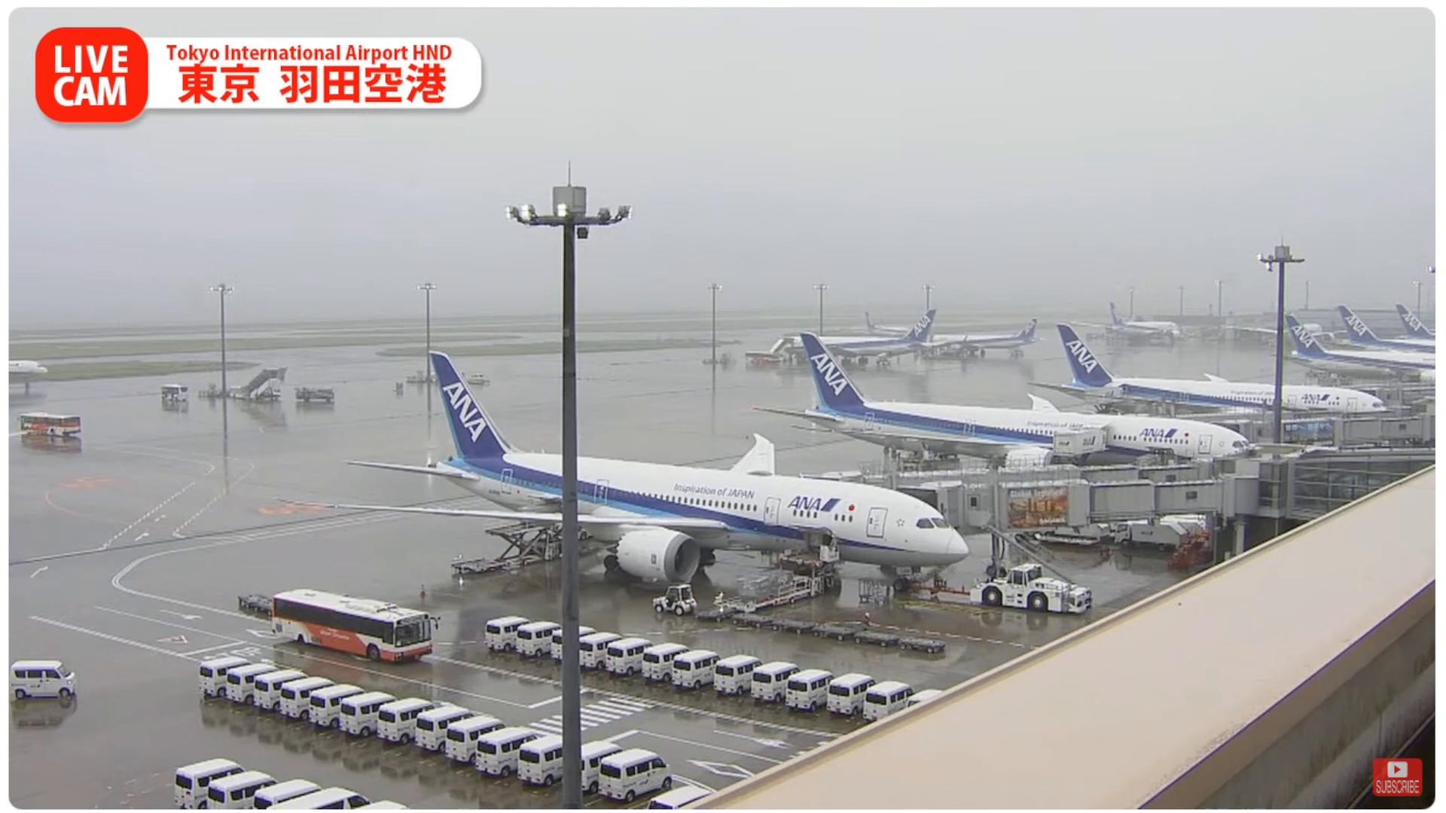APS: (969, 561, 1094, 613)
Aerobridge: (894, 452, 1258, 584), (795, 442, 1213, 488)
Airplane: (333, 353, 970, 591)
Dolly: (692, 607, 947, 655), (238, 590, 278, 619)
JCPL: (713, 541, 830, 610), (452, 521, 562, 576)
Tractor: (650, 583, 700, 617)
ULD: (736, 573, 772, 604), (756, 569, 796, 596)
Window: (1293, 452, 1436, 515)
